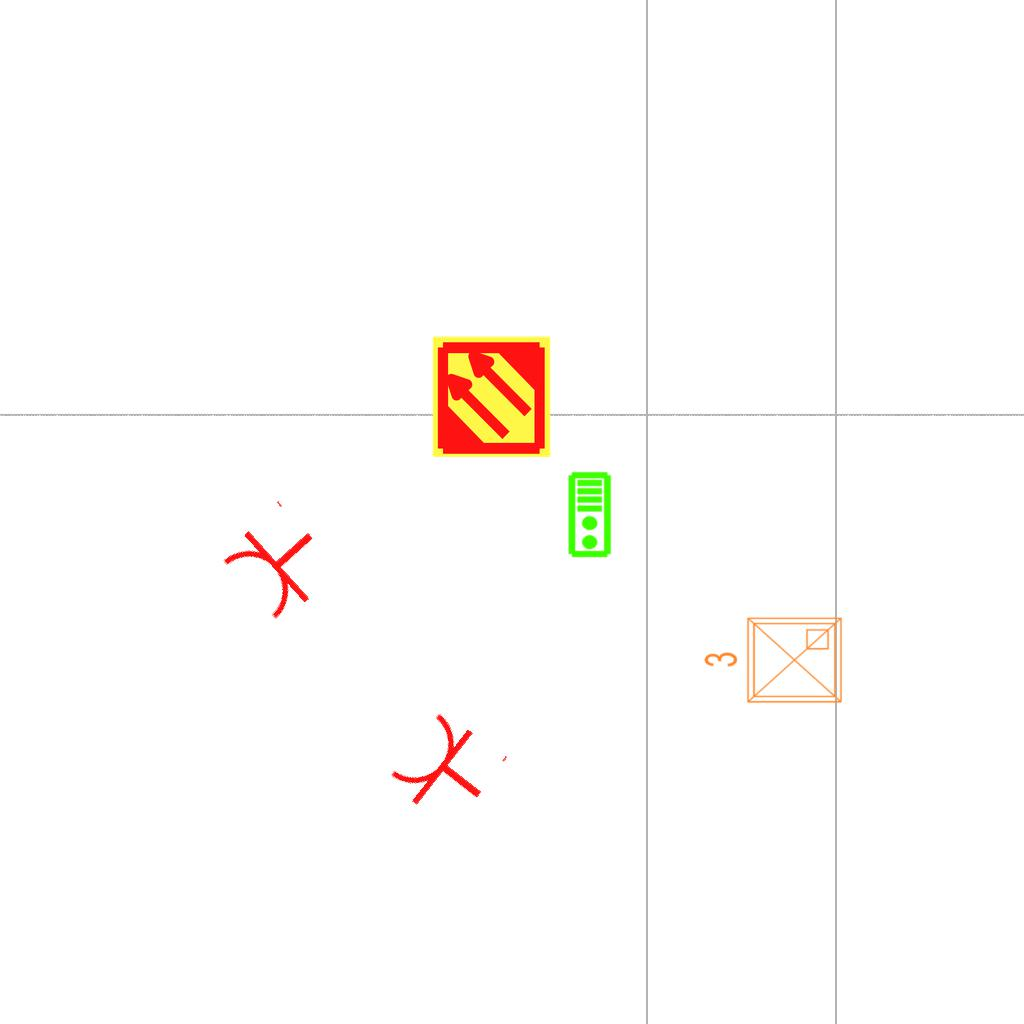ASR_Ansaugrauchmelder: (429, 334, 554, 459)
Einbaudownlights_LED_Konferenzraeume: (699, 610, 849, 714)
Gegensprechanlage_mit_Video: (567, 471, 614, 559)
Schukosteckdose_einfach: (212, 495, 345, 629), (382, 701, 513, 835)
